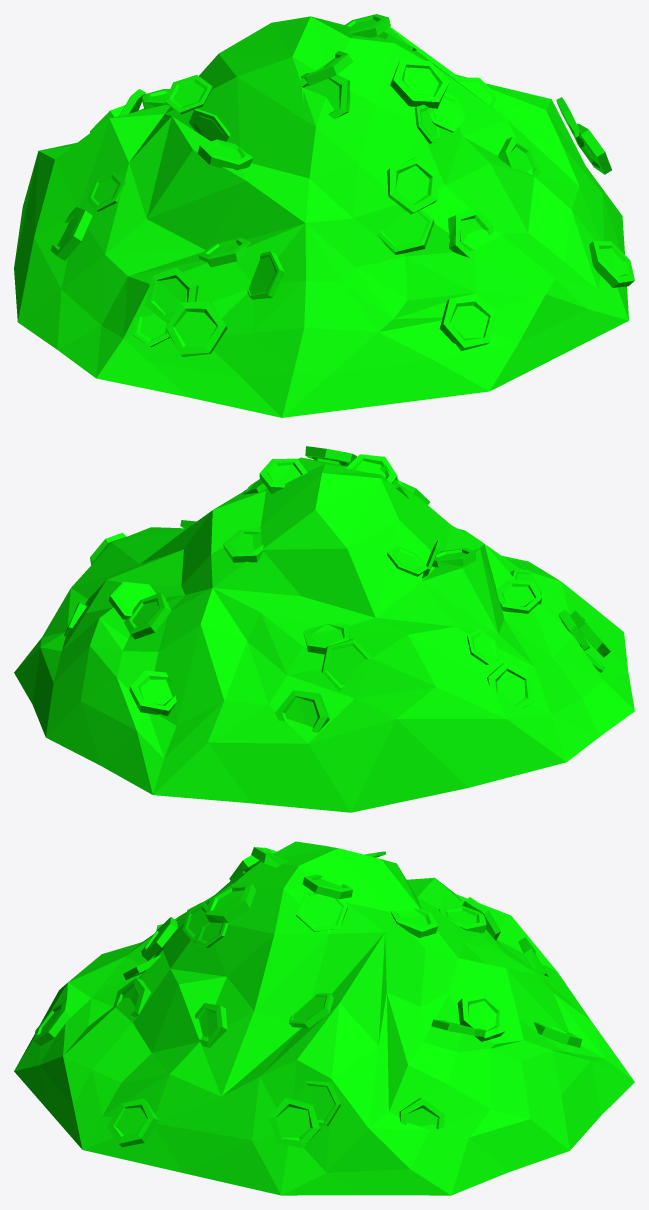
File: SM_Coins_Pile_Big_Fantasy.fbx
3 views of the same model, one above another, from view 1: azimuth 30°, elevation 25°; view 2: azimuth 150°, elevation 25°; view 3: azimuth 270°, elevation 25° (orthographic). The views are drawn at different scales.
Parts seen in each view (by area): view 1: coins-pile-big-fantasy; view 2: coins-pile-big-fantasy; view 3: coins-pile-big-fantasy.
Part boxes in pixels (x1,y1,x2,y2): coins-pile-big-fantasy: [14, 14, 634, 417]; coins-pile-big-fantasy: [14, 446, 634, 812]; coins-pile-big-fantasy: [14, 841, 634, 1195].
Bounding box in the file's own units: 0.4581 × 0.1905 × 0.4811.
